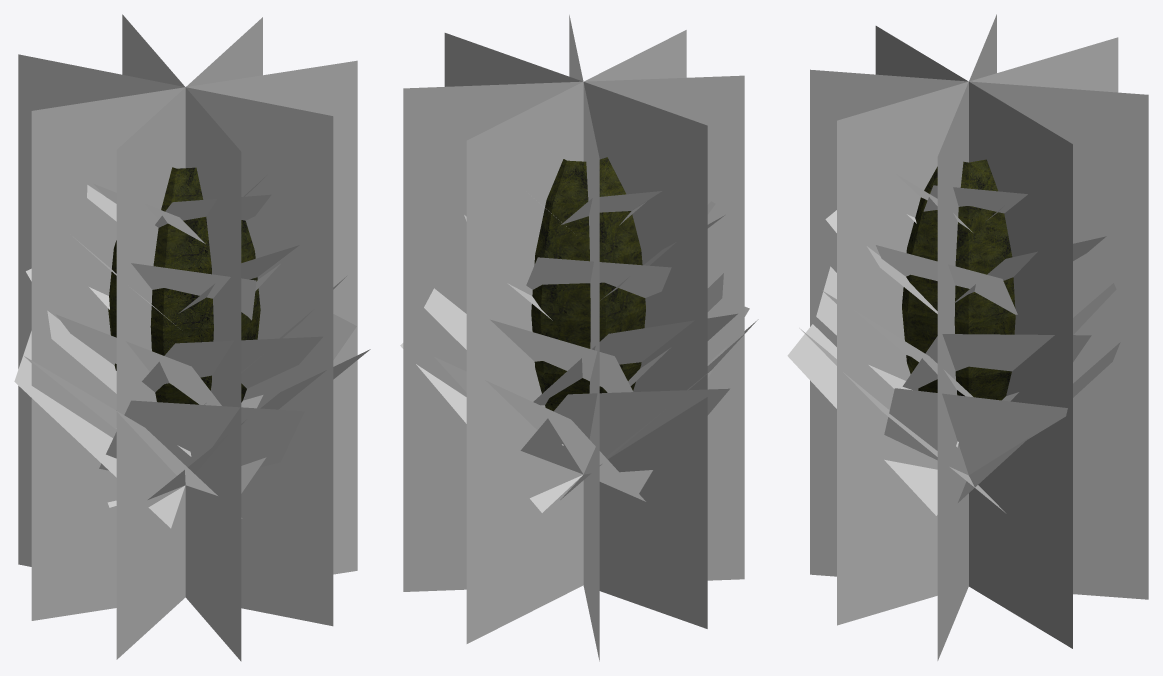
The model's file is Tree_07_WithBlob.fbx.
3 views of the same model, side by side, from view 1: azimuth 30°, elevation 25°; view 2: azimuth 150°, elevation 25°; view 3: azimuth 270°, elevation 25° (orthographic).
Parts seen in each view (by area): view 1: Tree_011; view 2: Tree_011; view 3: Tree_011.
Boxes of the visible parts, box(x1,y1,x2,y2) form: Tree_011: box(14, 14, 370, 661); Tree_011: box(400, 15, 758, 661); Tree_011: box(787, 14, 1148, 660).
Bounding box in the file's own units: 920 × 1418 × 919.
